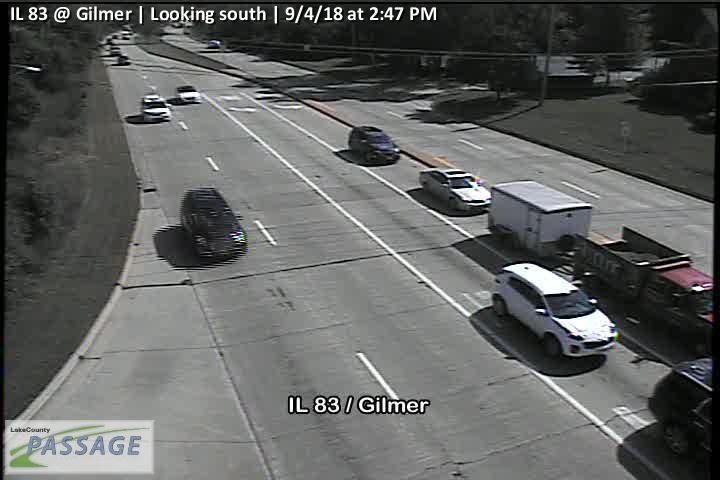SUV: (488, 259, 619, 356), (180, 185, 248, 263)
Sedan: (416, 166, 490, 214), (345, 123, 403, 165), (139, 92, 171, 122), (174, 84, 203, 105)
Truck: (486, 175, 720, 356)
